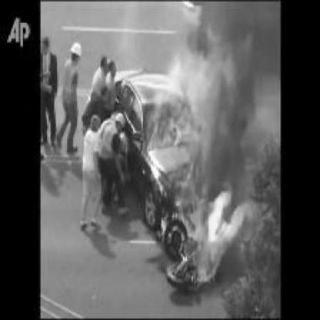Fire: (139, 116, 259, 284)
